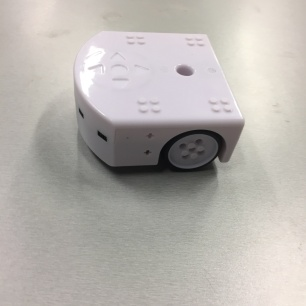thymio: (67, 24, 249, 174)
